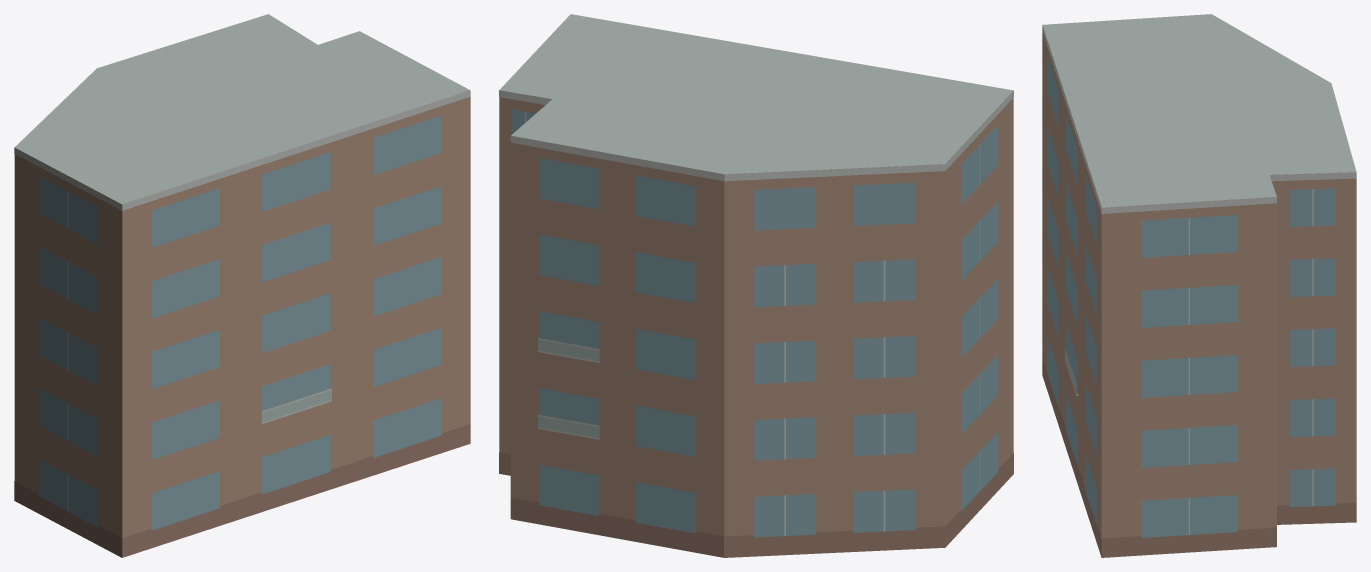
Rendered from survey-upis-33026273.glb.
The picture shows the model from 3 angles, left to right: view 1: azimuth 30°, elevation 25°; view 2: azimuth 150°, elevation 25°; view 3: azimuth 270°, elevation 25°; orthographic projection. The views are drawn at different scales.
Parts seen in each view (by area): view 1: survey-upis-33026273.tmp; view 2: survey-upis-33026273.tmp; view 3: survey-upis-33026273.tmp.
Boxes of the visible parts, x1,y1,x2,y2 form: survey-upis-33026273.tmp: (14,14,470,557); survey-upis-33026273.tmp: (499,14,1013,557); survey-upis-33026273.tmp: (1042,14,1356,557).
Bounding box in the file's own units: 15.91 × 13.4 × 10.91.
